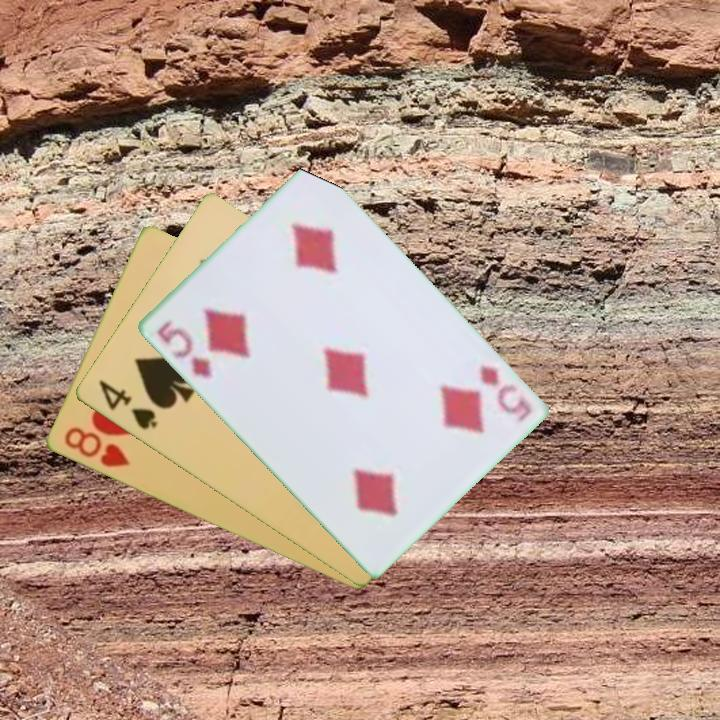4s: (94, 376, 160, 433)
5d: (152, 315, 215, 382), (475, 361, 534, 425)
8h: (60, 423, 132, 471)
